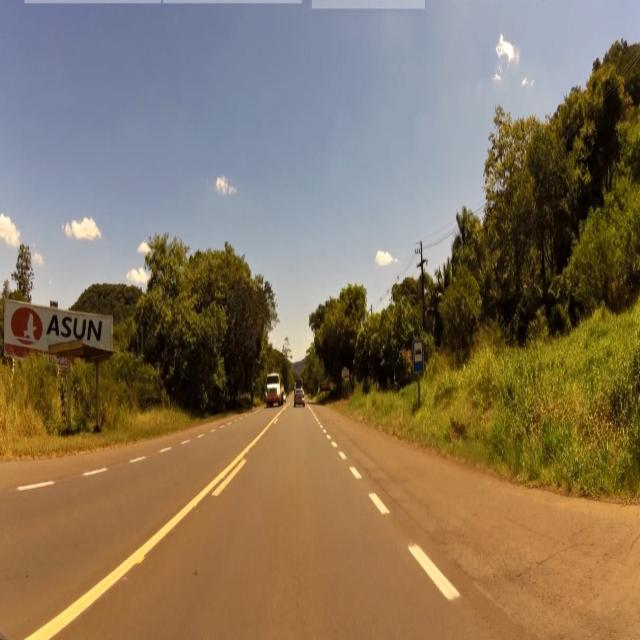S-14: (413, 339, 424, 372)
